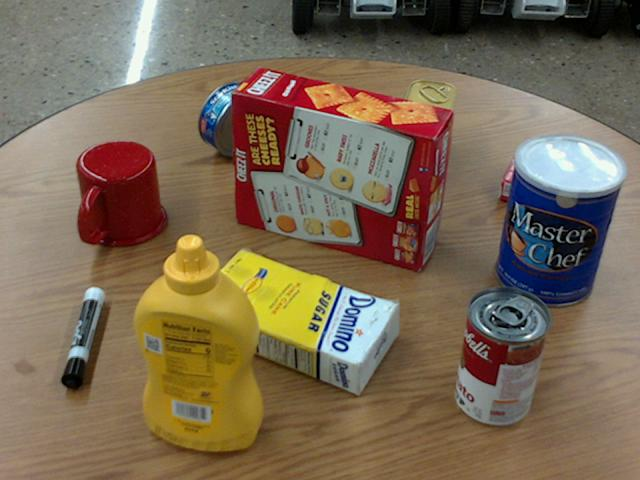cracker_box: (231, 69, 451, 270)
gelatin_box: (500, 145, 580, 213)
large_marker: (59, 287, 103, 386)
master_chef_can: (495, 134, 624, 306)
mug: (77, 141, 166, 246)
mustard_bottle: (131, 234, 259, 449)
potted_meat_can: (399, 80, 457, 181)
sugar_box: (189, 248, 399, 395)
tomato_soup_can: (455, 287, 550, 426)
tuna_fish_can: (197, 82, 268, 157)
